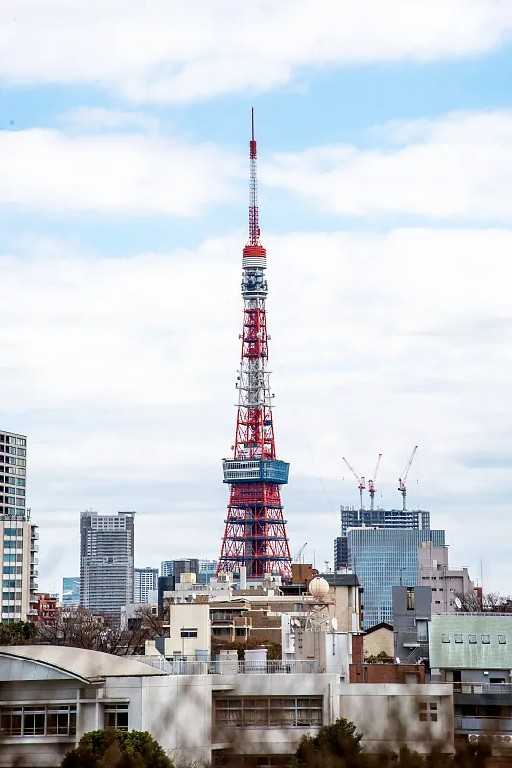Tokyo: (214, 103, 295, 582)
